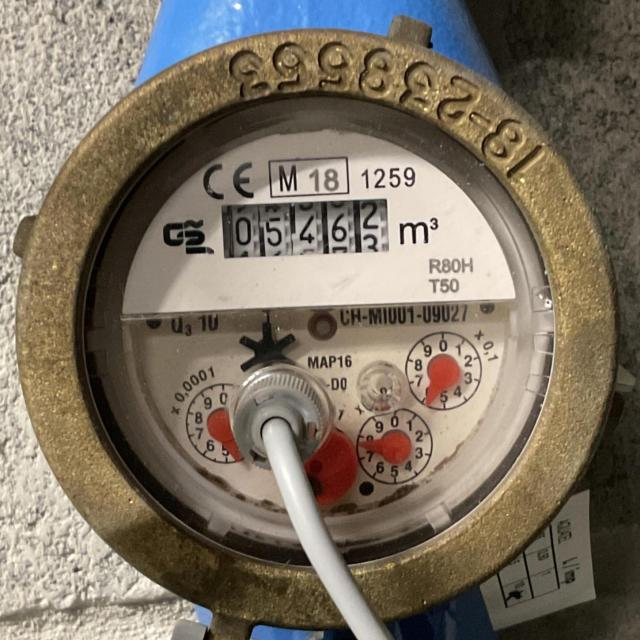gaz_meter: (126, 125, 544, 545)
indication: (221, 197, 390, 258)
